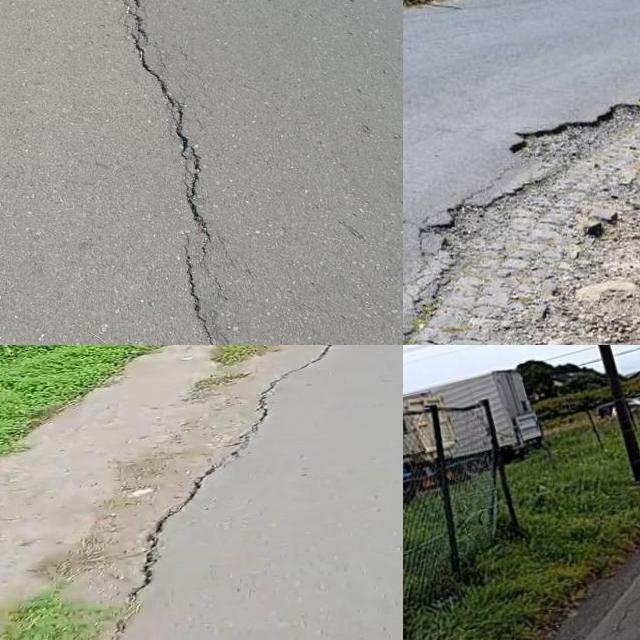Memanjang: (101, 345, 354, 627), (109, 0, 244, 345)
Pinggir: (403, 92, 640, 345)
